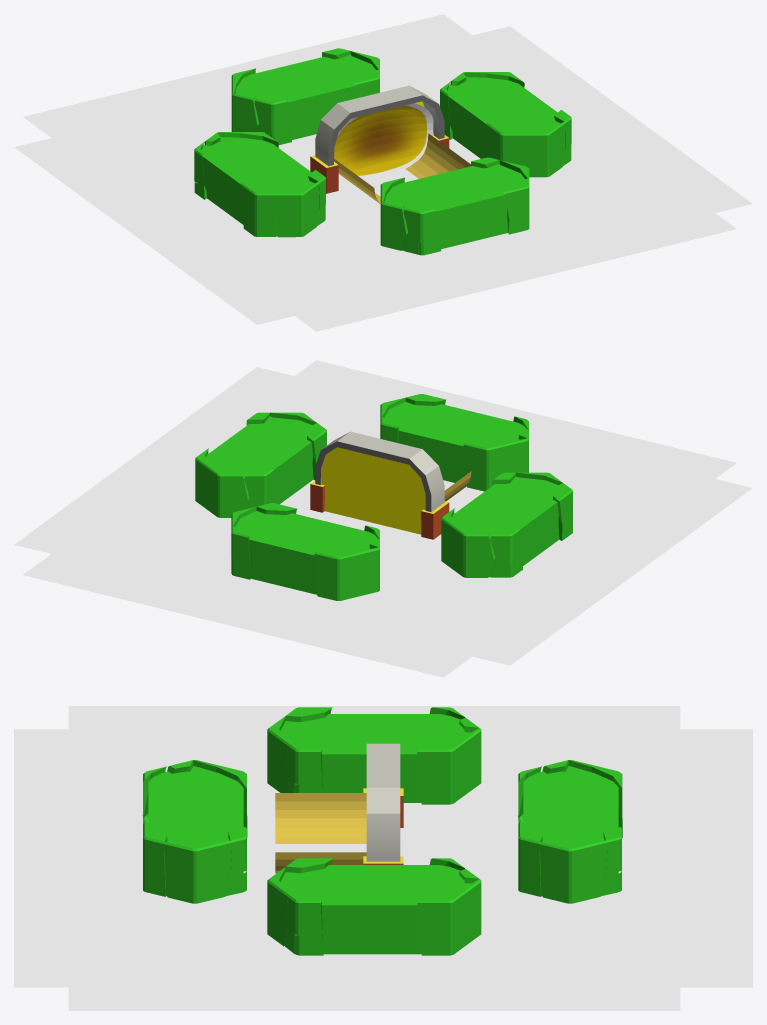
Rendered from Rotate4Sec.fbx.
3 views of the same model, one above another, from view 1: azimuth 30°, elevation 25°; view 2: azimuth 150°, elevation 25°; view 3: azimuth 270°, elevation 25° (orthographic). The views are drawn at different scales.
Parts seen in each view (by area): view 1: Shadow (×4), Model (×4), PortalMeshOrange, HexGib09 (×4), HexGib01 (×2), PortalOrange, HexGib06 (×2), HexGib05 (×2), GradientMeshOrangeR; view 2: Shadow (×4), Model (×4), HexGib04 (×4), PortalBack, PortalOrange, HexGib05 (×2), HexGib06 (×2), HexGib09 (×2), HexGib02; view 3: Shadow (×4), Model (×4), HexGib01 (×4), HexGib04 (×4), GradientMeshOrangeL, HexGib02 (×4), PortalOrange, HexGib09 (×4), GradientMeshOrangeR.
Boxes of the visible parts, x1,y1,x2,y2 form: Shadow (×4): (14, 14, 752, 331); Model (×4): (197, 54, 570, 254); PortalMeshOrange: (334, 103, 433, 182); HexGib09 (×4): (241, 69, 529, 236); HexGib01 (×2): (274, 121, 565, 237); PortalOrange: (310, 85, 449, 193); HexGib06 (×2): (254, 99, 441, 244); HexGib05 (×2): (233, 92, 407, 250); GradientMeshOrangeR: (405, 133, 470, 178); Shadow (×4): (14, 360, 752, 677); Model (×4): (196, 402, 559, 600); HexGib04 (×4): (195, 438, 528, 600); PortalBack: (321, 447, 425, 534); PortalOrange: (310, 431, 449, 539); HexGib05 (×2): (220, 470, 495, 577); HexGib06 (×2): (244, 469, 522, 565); HexGib09 (×2): (307, 423, 572, 540); HexGib02: (231, 526, 249, 570); Shadow (×4): (14, 706, 752, 1010); Model (×4): (148, 714, 618, 954); HexGib01 (×4): (164, 716, 607, 946); HexGib04 (×4): (193, 728, 622, 955); GradientMeshOrangeL: (275, 793, 366, 843); HexGib02 (×4): (228, 742, 621, 944); PortalOrange: (363, 743, 403, 864); HexGib09 (×4): (143, 707, 542, 896); GradientMeshOrangeR: (275, 852, 366, 873).
Bounding box in the file's own units: 4.03 × 0.6109 × 4.13.
